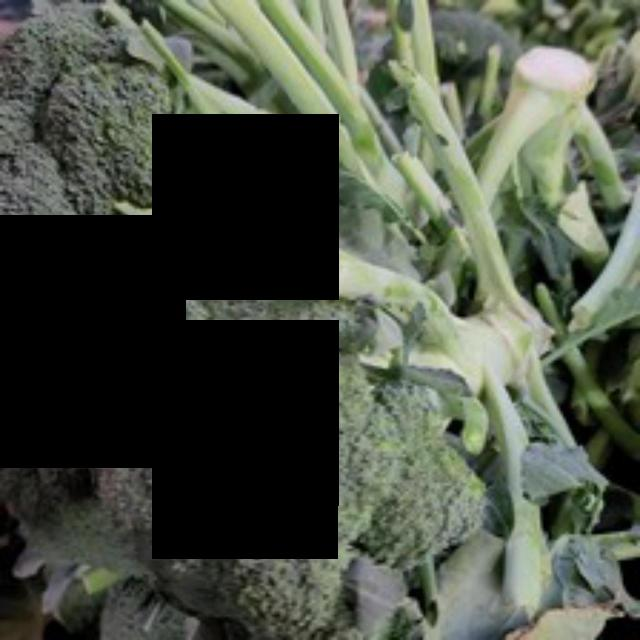broccoli: (88, 231, 486, 637)
